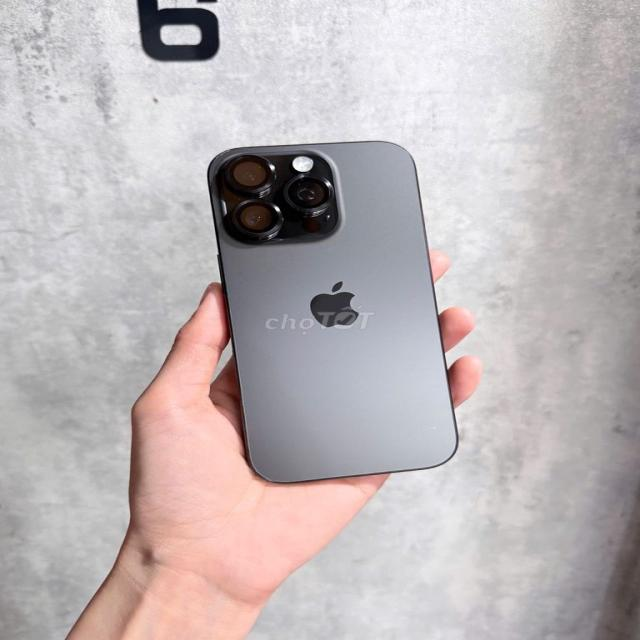gen_16: (197, 130, 473, 498)
